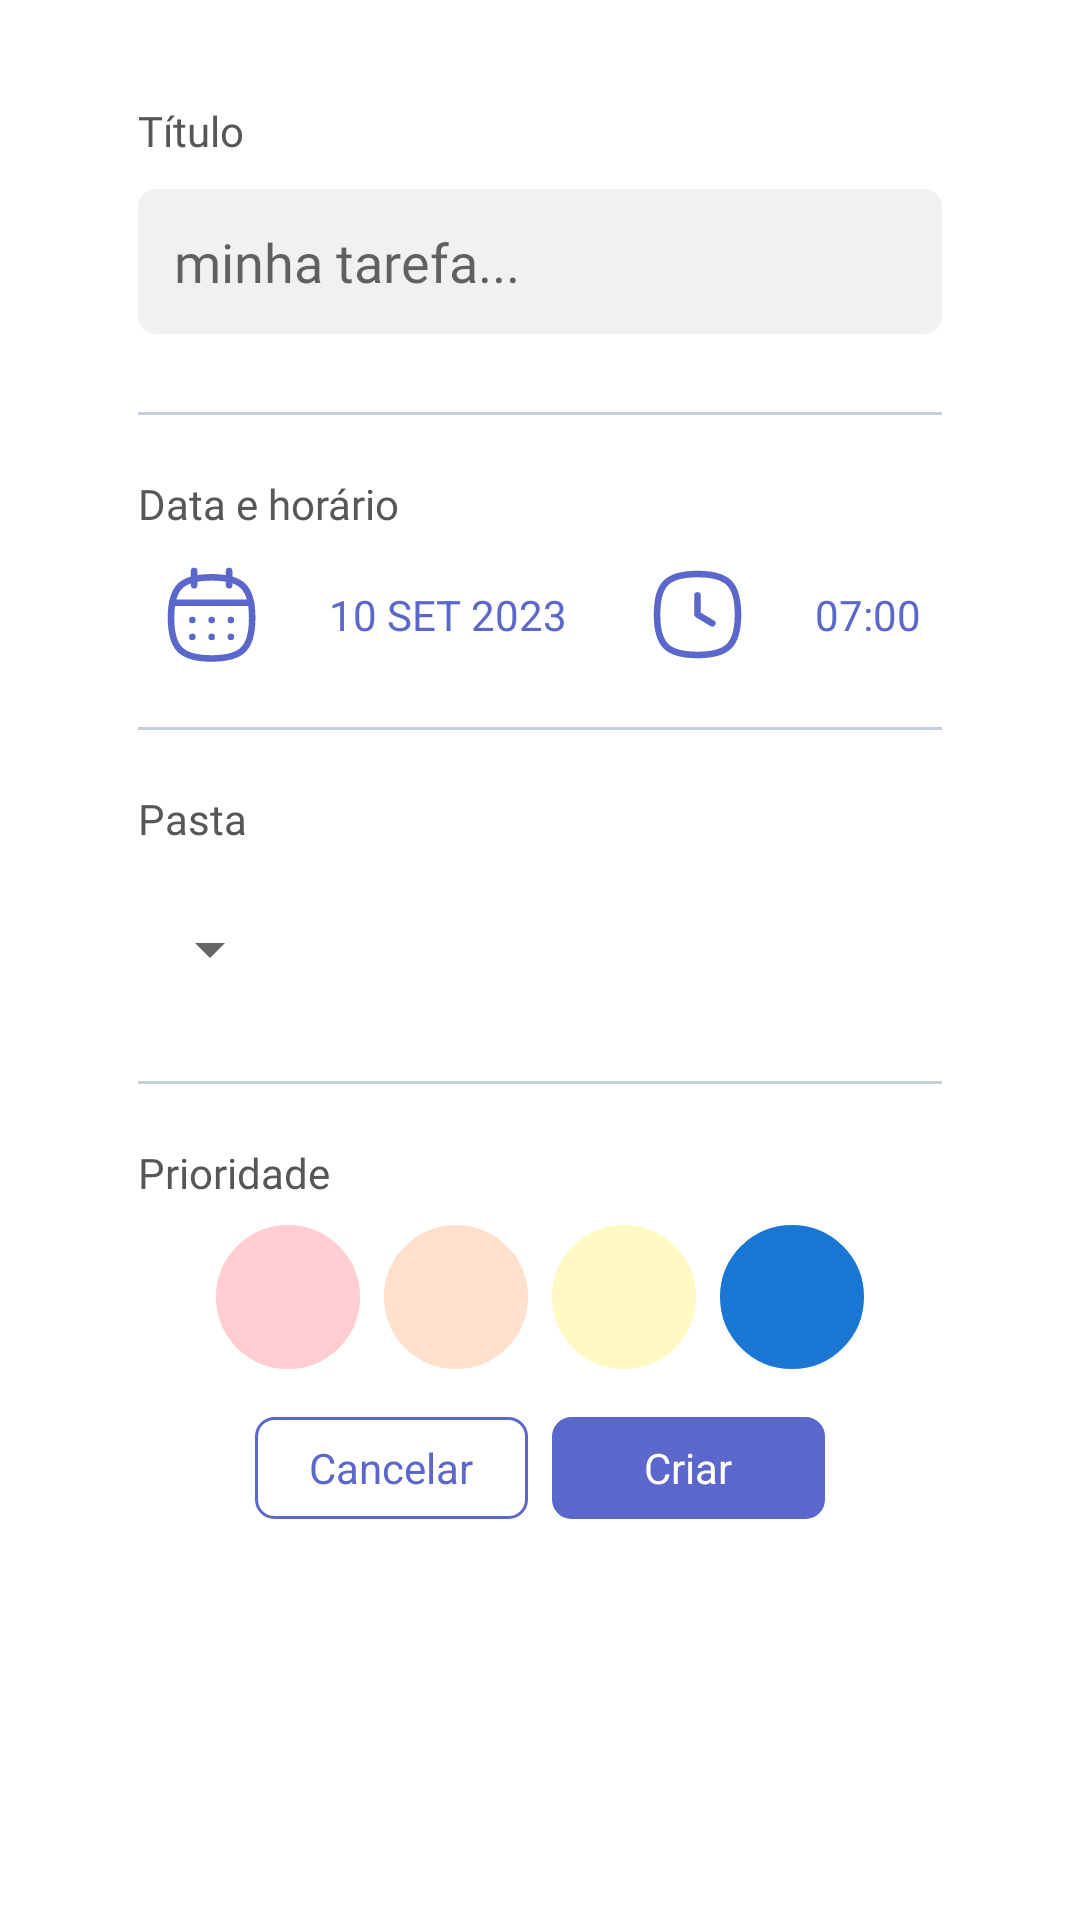

Icons on this 1080w x 1920h Android screen, each with the point to tap as point (x, y):
calendar: point (211, 614)
clock: point (697, 614)
